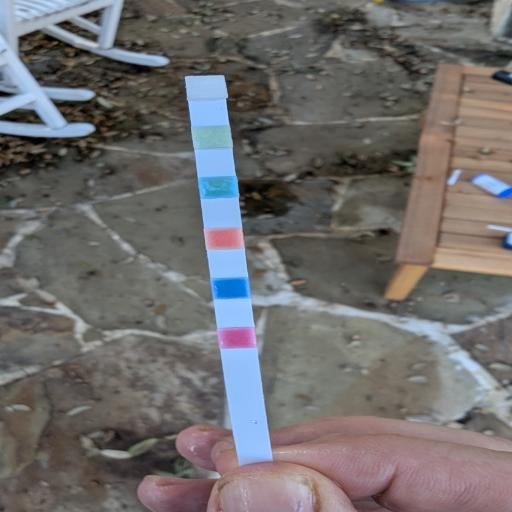strip: (185, 74, 274, 464)
